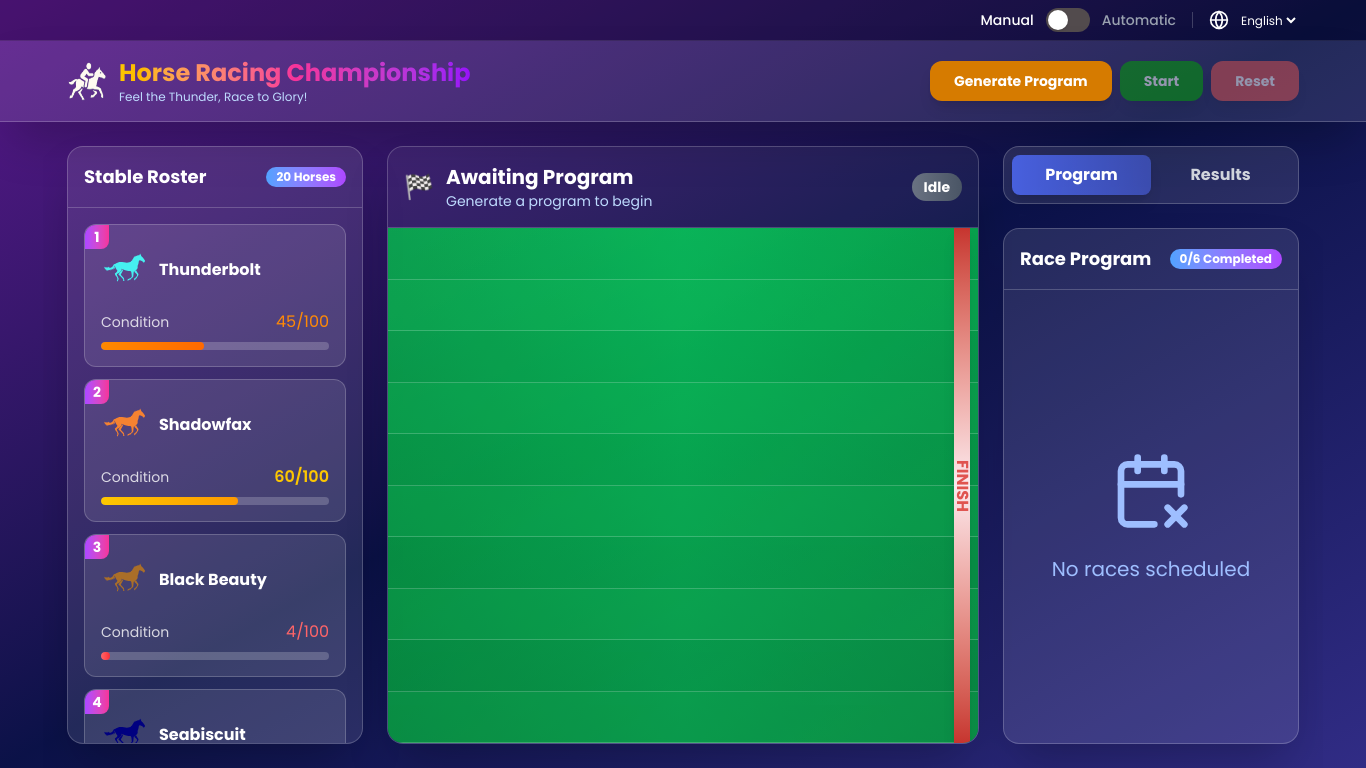
Game Flow › Initial State › should display the initial state of the application correctly
Expected: the element with test id "generate-program-button" is enabled
Expected: the button with test id "start-button" is disabled, [1120,61,1204,101]
Click on results tab
Click the button with test id "tab-results": coordinates (1221, 175) [1151,155,1290,195]
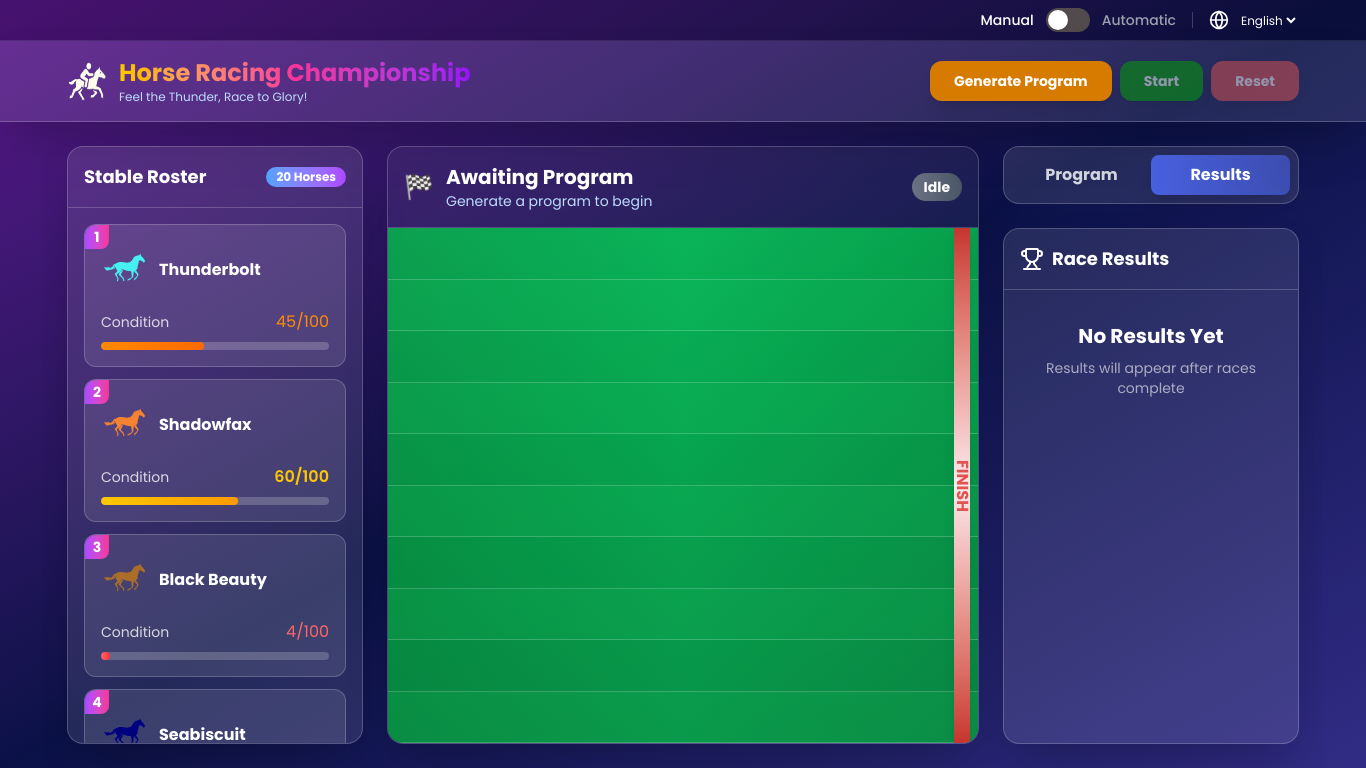
Now the element with test id "no-results-message" is shown, box [1036,322,1266,398]
Click back to program tab
Click the button with test id "tab-program": coordinates (1082, 175) [1012,155,1151,195]
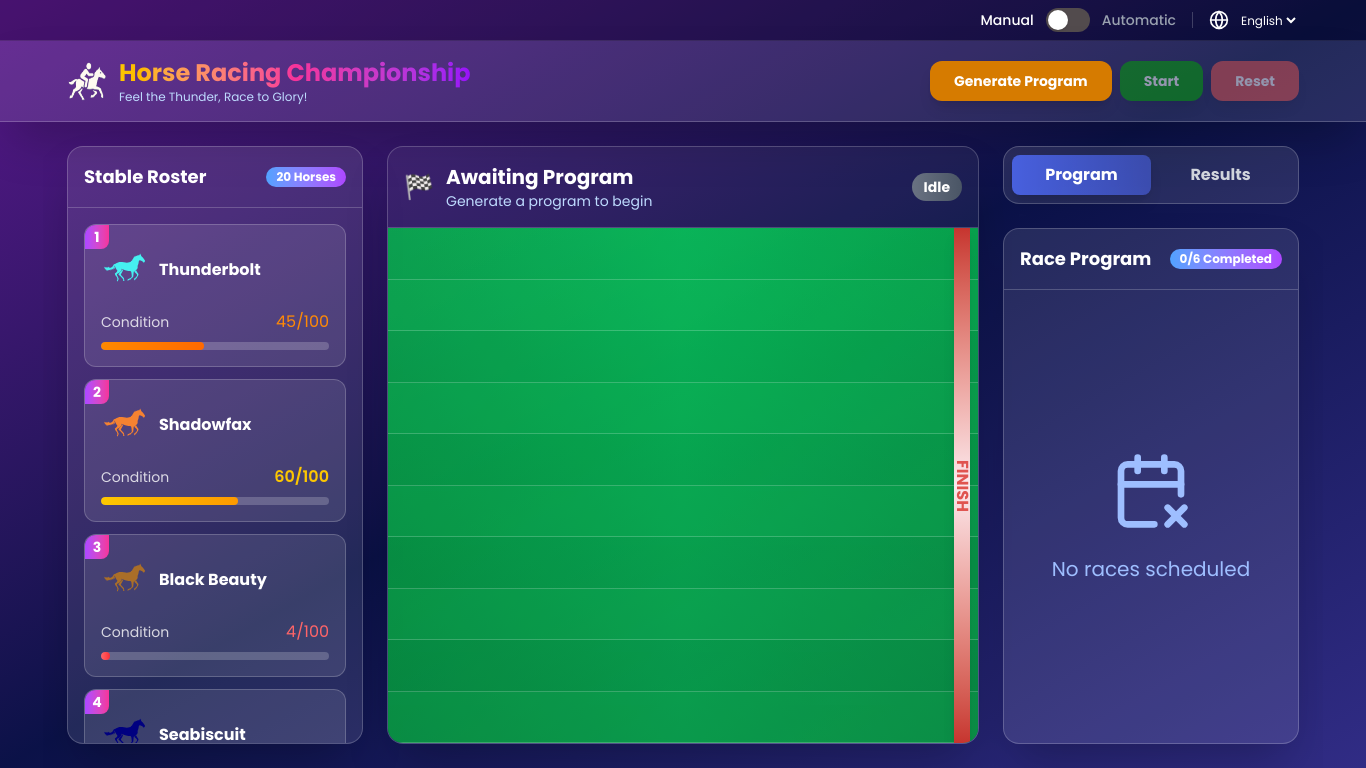
Now the text "No races scheduled" is shown, box [1052,554,1250,582]
